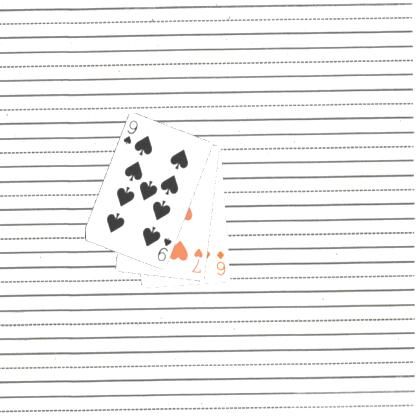6D: (214, 248, 227, 277)
7H: (190, 245, 204, 275)
9S: (154, 235, 173, 263), (121, 117, 139, 146)
